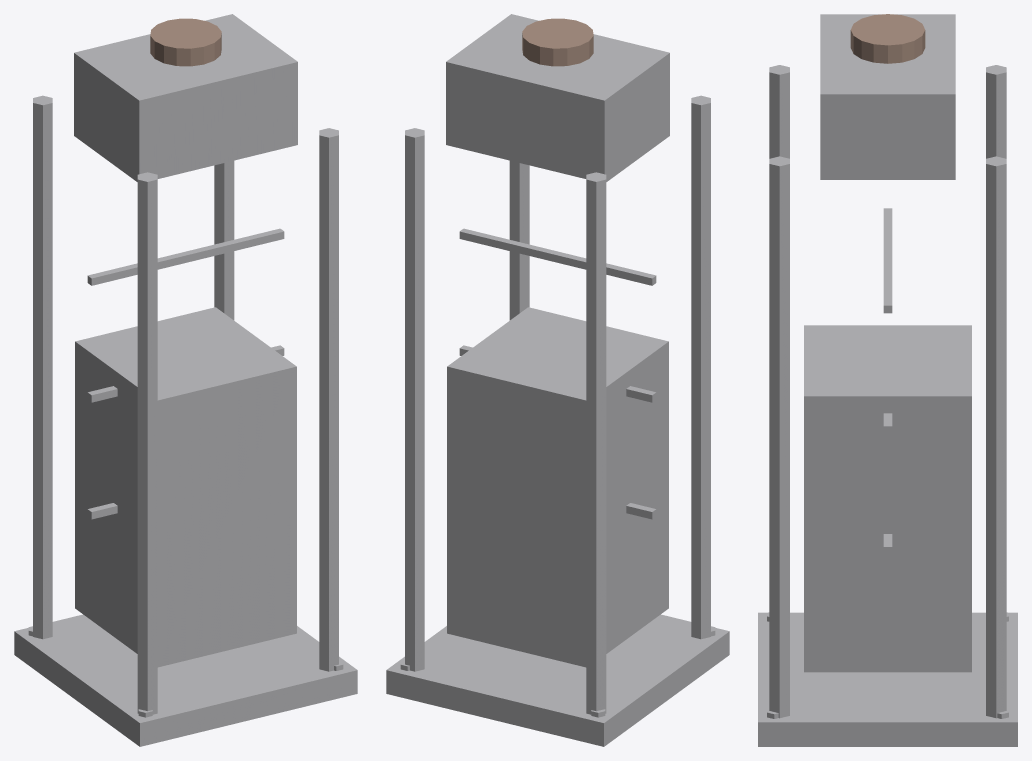
File: elevator_rare.glb
3 renders of one model, left to right at view 1: azimuth 30°, elevation 25°; view 2: azimuth 150°, elevation 25°; view 3: azimuth 270°, elevation 25°, orthographic. The views are drawn at different scales.
Visible parts, largest first — view 1: elevator, cage; view 2: elevator, cage; view 3: elevator, cage.
Part boxes in pixels (<box>): elevator: <box>14,14,357,746</box>; cage: <box>75,307,296,667</box>; elevator: <box>386,14,729,746</box>; cage: <box>447,307,668,667</box>; elevator: <box>758,14,1017,746</box>; cage: <box>804,325,971,672</box>.
Size of the model in its own units: 1.54 by 4.32 by 1.54.
